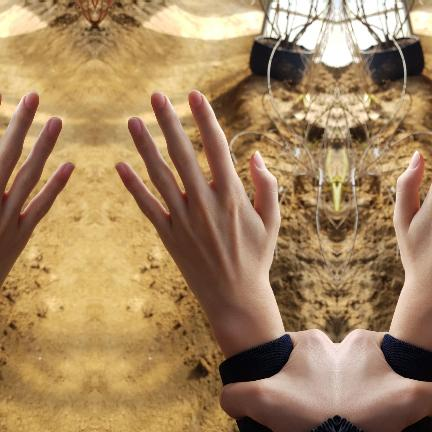Nail: (150, 90, 165, 110), (23, 90, 38, 110), (127, 117, 142, 135), (46, 117, 61, 135), (253, 150, 266, 169), (188, 89, 202, 106), (408, 150, 420, 169), (114, 163, 128, 177), (60, 163, 74, 177)
